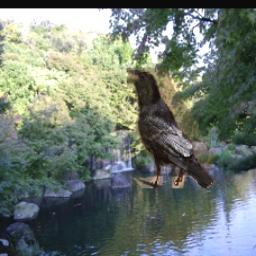Crow: (126, 68, 214, 188)
